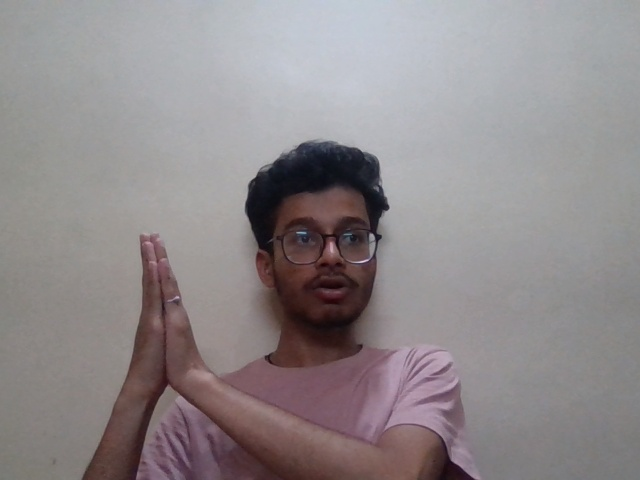please: (98, 224, 232, 399)
